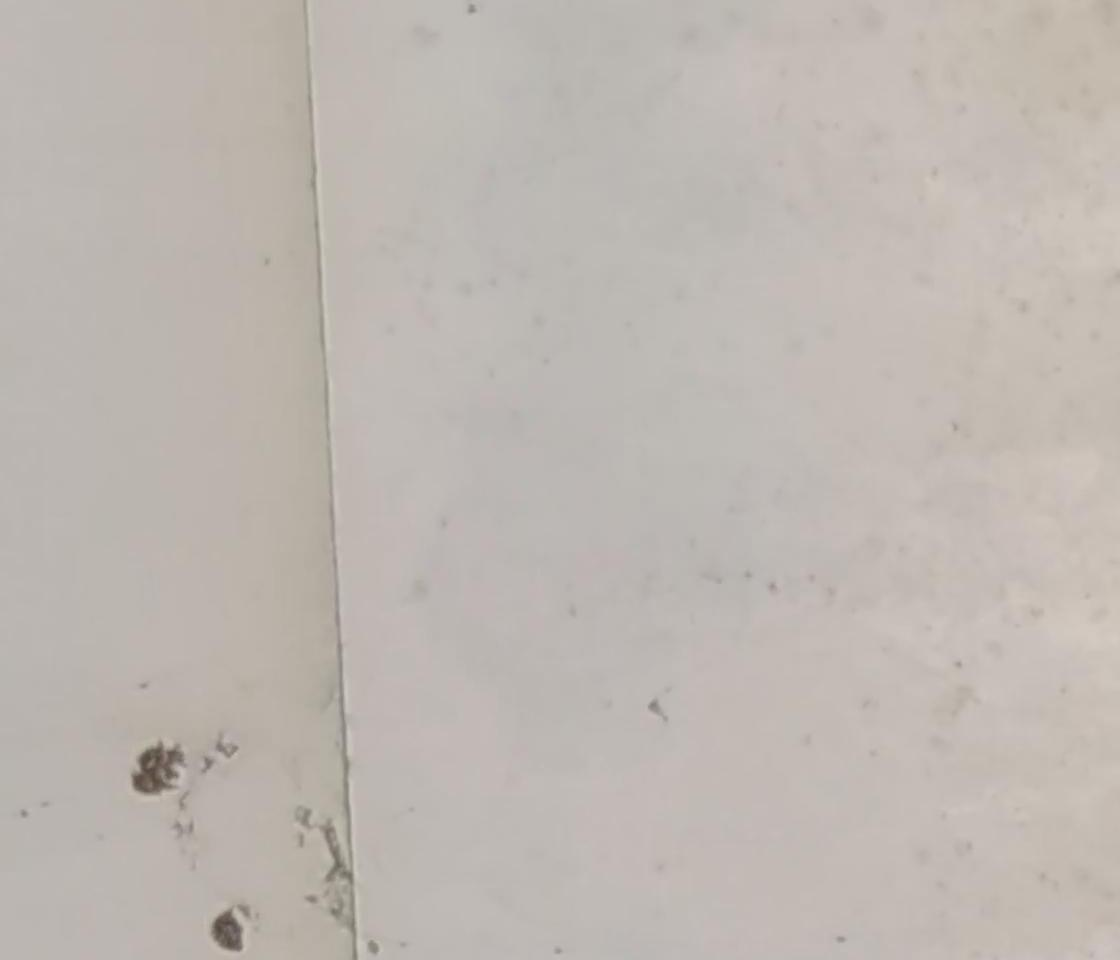paint_peel: (122, 734, 201, 811), (201, 898, 252, 956)
